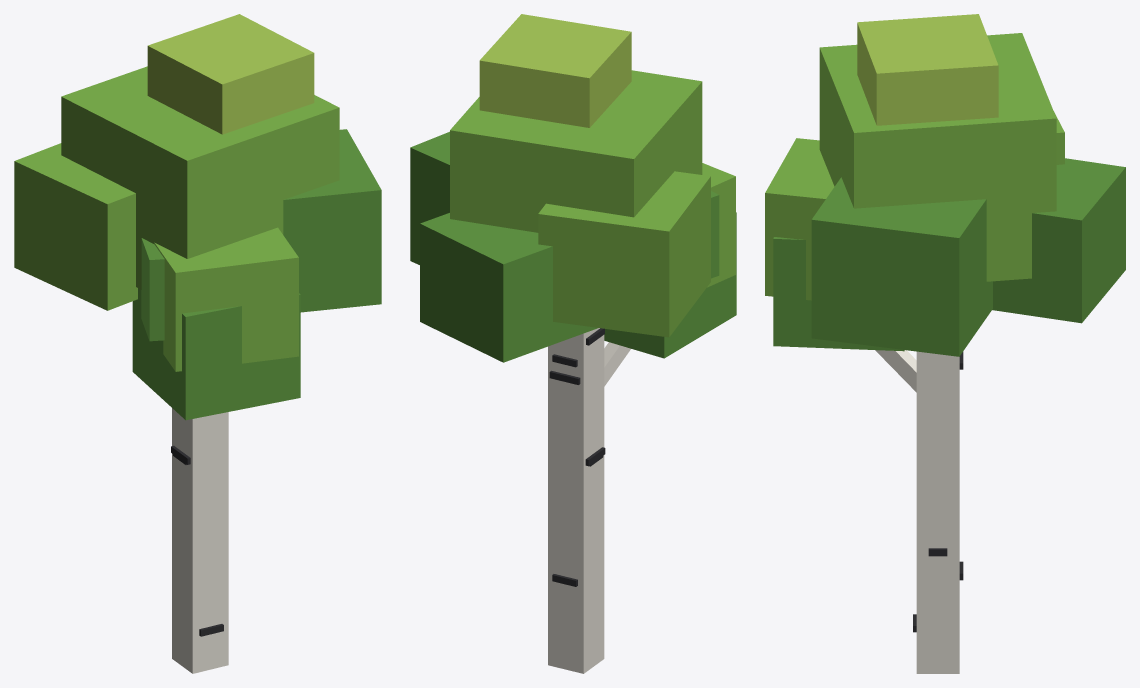
File: A06_birch_tall.obj
The picture shows the model from 3 angles, left to right: view 1: azimuth 30°, elevation 25°; view 2: azimuth 150°, elevation 25°; view 3: azimuth 270°, elevation 25°; orthographic projection. The views are drawn at different scales.
Parts seen in each view (by area): view 1: A06_birch_tall; view 2: A06_birch_tall; view 3: A06_birch_tall.
Boxes of the visible parts, x1,y1,x2,y2 form: A06_birch_tall: [14, 14, 381, 673]; A06_birch_tall: [410, 14, 736, 673]; A06_birch_tall: [765, 14, 1125, 673].
Size of the model in its own units: 3.47 by 6.81 by 3.51.
